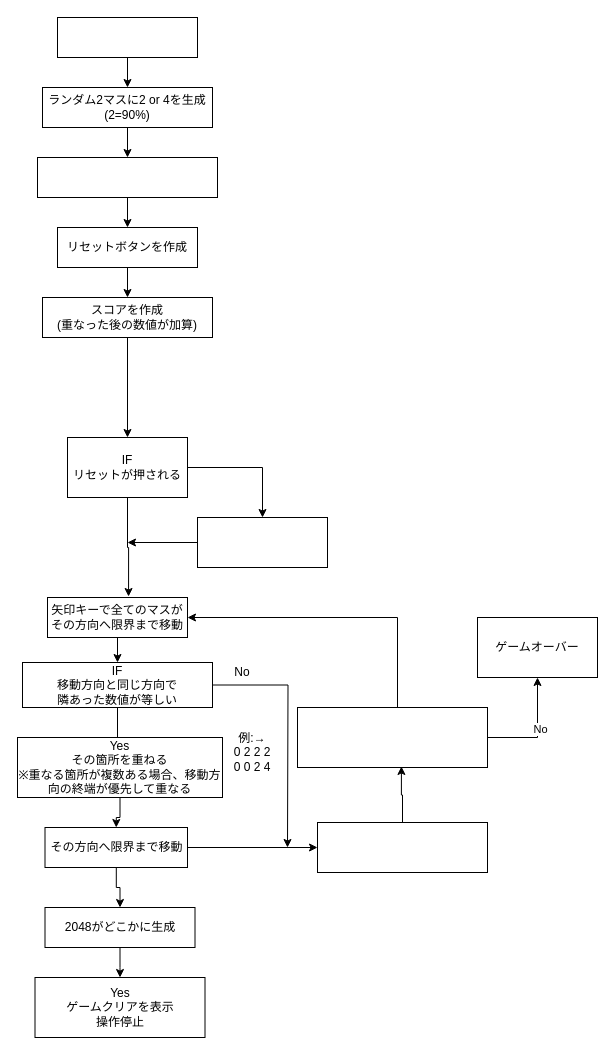
Some shapes in this 615 by 1055 pixel diagram are drawn without their labels. The centre of each missing label's shape, as x and y in pixels:
"4×4のマスを生成" belongs at (127,37).
"ランダム1マスに2 or 4を生成 (2=90%)" belongs at (402,847).
"一つ前の盤面に戻る" belongs at (262,542).
"全方向で移動可or隣り合った同じ数値があるかチェック" belongs at (392,737).
"戻るボタン(一回のみ)を作成" belongs at (127,177).
